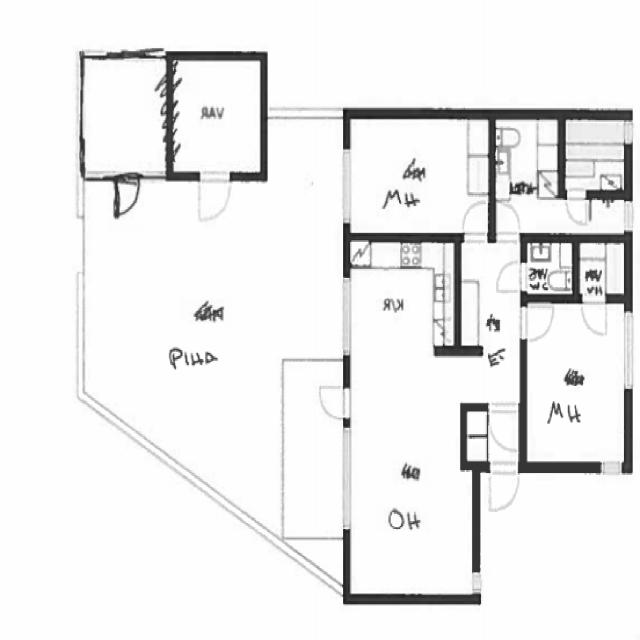door: (194, 171, 234, 227), (486, 463, 522, 514), (486, 404, 521, 456), (520, 301, 557, 344), (460, 198, 491, 244), (316, 383, 352, 422), (493, 199, 523, 243), (113, 177, 141, 221), (580, 298, 610, 338), (494, 258, 527, 294), (565, 191, 590, 226)
window: (339, 423, 354, 533), (620, 307, 636, 392), (339, 144, 355, 226), (339, 274, 353, 358), (74, 66, 88, 144), (596, 459, 625, 479), (136, 169, 170, 184), (623, 198, 635, 235), (471, 568, 484, 596), (623, 118, 635, 148)
zone: (342, 234, 477, 600), (82, 54, 264, 176), (522, 296, 628, 467), (345, 117, 491, 237), (492, 117, 562, 238), (562, 117, 628, 193), (523, 238, 575, 296), (578, 240, 628, 300)
